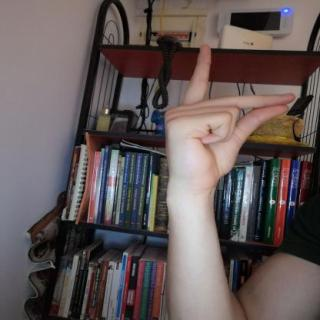TAA: (149, 38, 303, 194)
